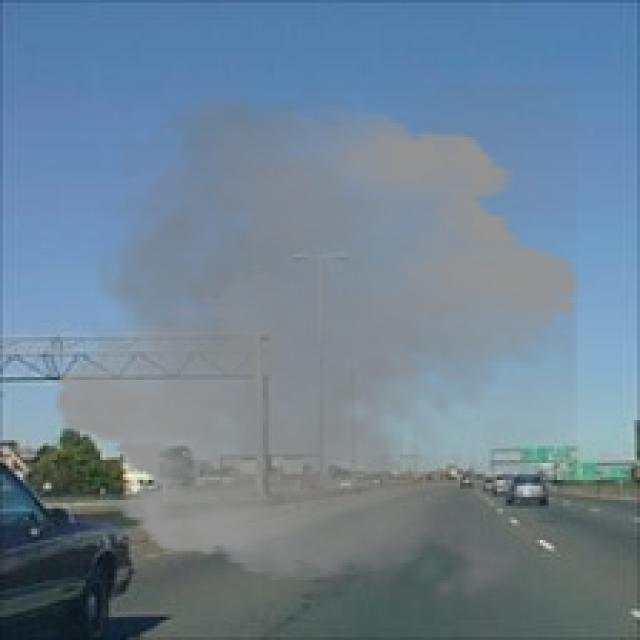smoke: (37, 83, 597, 617)
